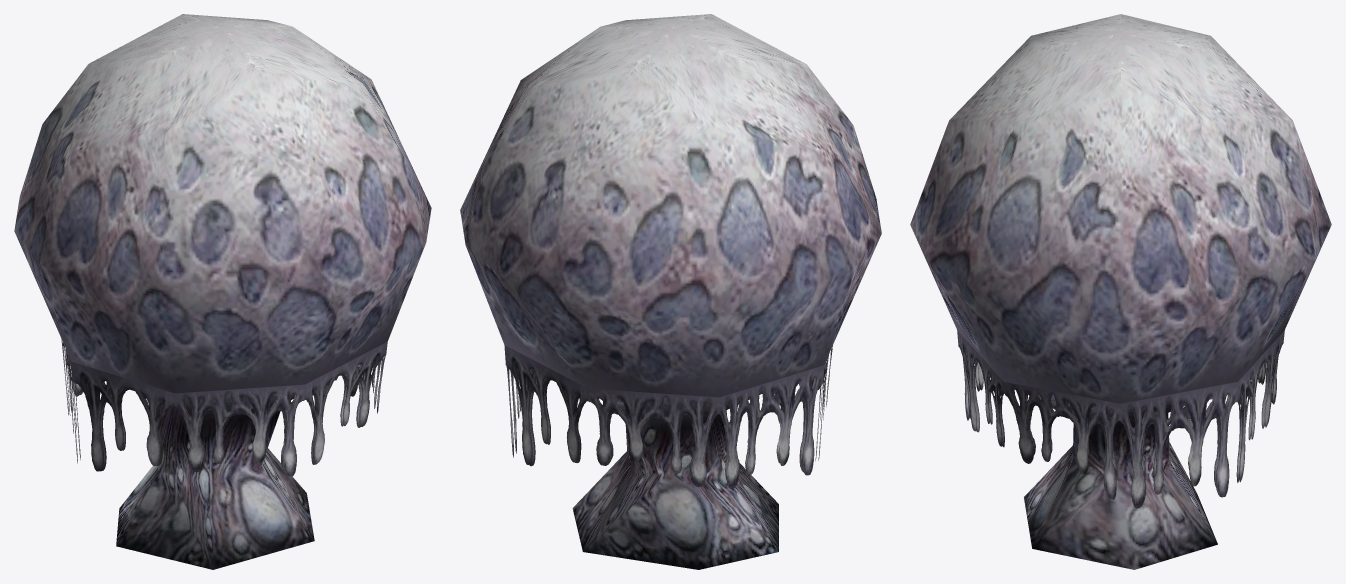
Rendered from grenade_fungus1_l0.fbx.
3 views of the same model, side by side, from view 1: azimuth 30°, elevation 25°; view 2: azimuth 150°, elevation 25°; view 3: azimuth 270°, elevation 25° (orthographic).
Parts seen in each view (by area): view 1: mesh_node; view 2: mesh_node; view 3: mesh_node.
Part boxes in pixels (left/top/right/bottom): mesh_node: left=14, top=14, right=431, bottom=569; mesh_node: left=460, top=14, right=881, bottom=569; mesh_node: left=910, top=14, right=1331, bottom=569.
Size of the model in its own units: 0.5623 by 0.7242 by 0.5623.
